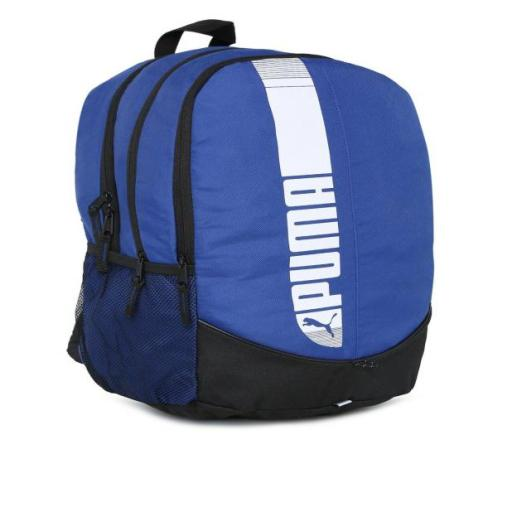Puma: (280, 173, 346, 314), (298, 310, 339, 344)
